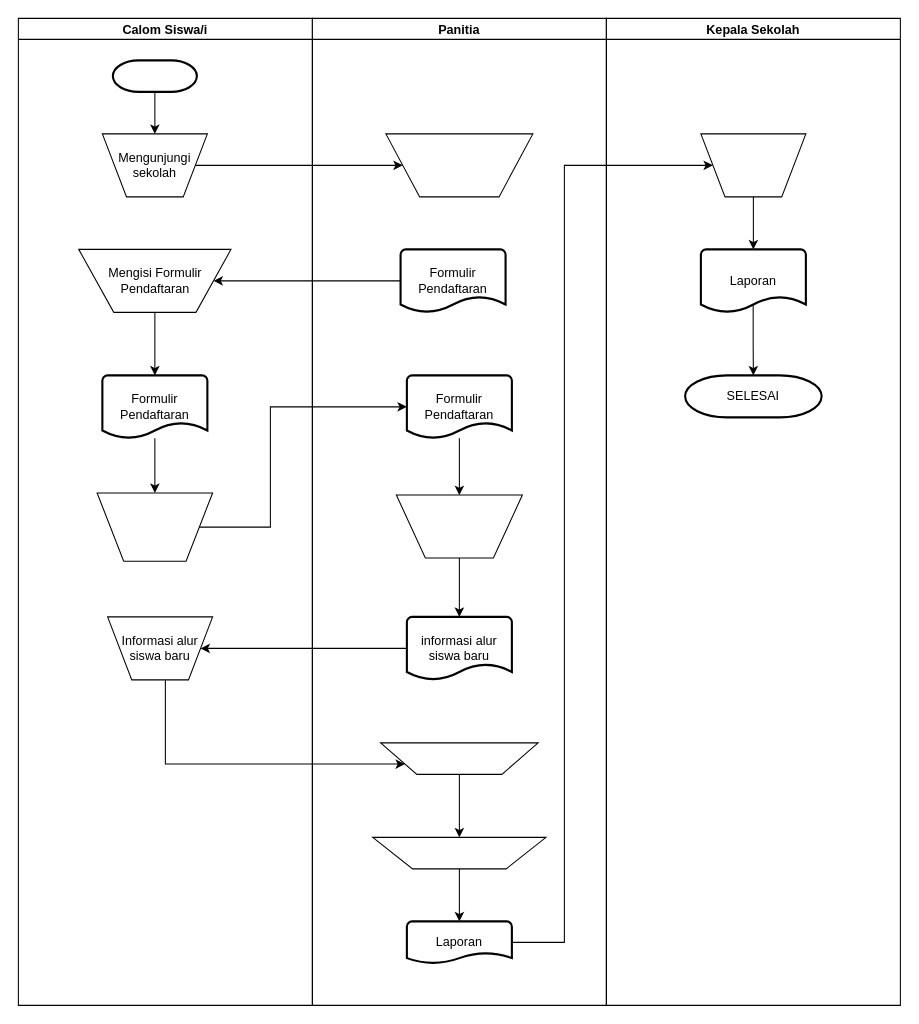
Image size: 919x1024. Some labels were removed from this diagram. The centre of each missing label's shape, as x and y in pixels:
Menerima Laporan: point 753,165
Menginformasikan alur Pendaftaran: point 459,165
Menyerahkan Formulir Pendaftaran: point 154,526
Menyusun Laporan: point 459,852
Merekap Data: point 459,758
Mulai: point 154,75
Pencatatan Data Pendaftaran: point 458,526
